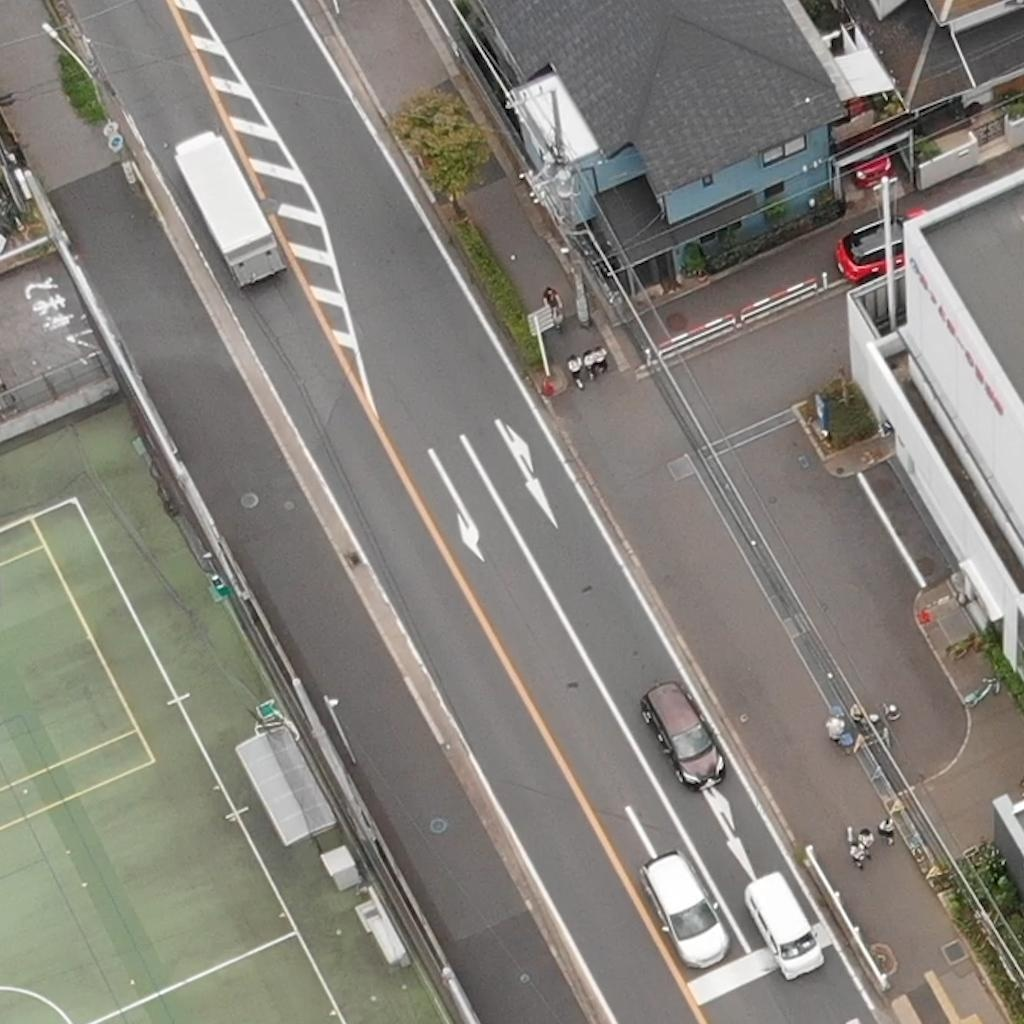car: (638, 849, 733, 972), (640, 680, 727, 790), (744, 870, 823, 979), (835, 216, 885, 282)
truck: (172, 128, 286, 287)
